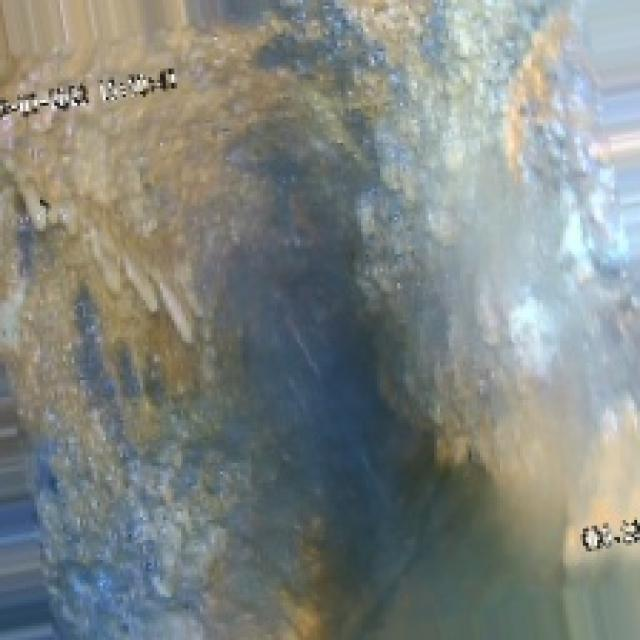encrustation: (115, 120, 614, 454)
